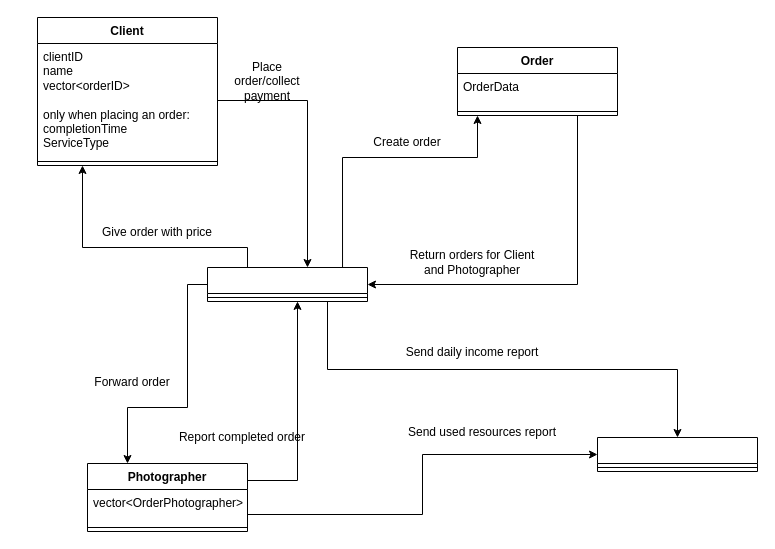
Some shapes in this 775 by 549 pixel diagram are drawn without their labels. Here are the shapes that lost their labels. From the top down, the centre of each, then its label:
the point at 287,284: Receptionist
the point at 677,454: Administrator
